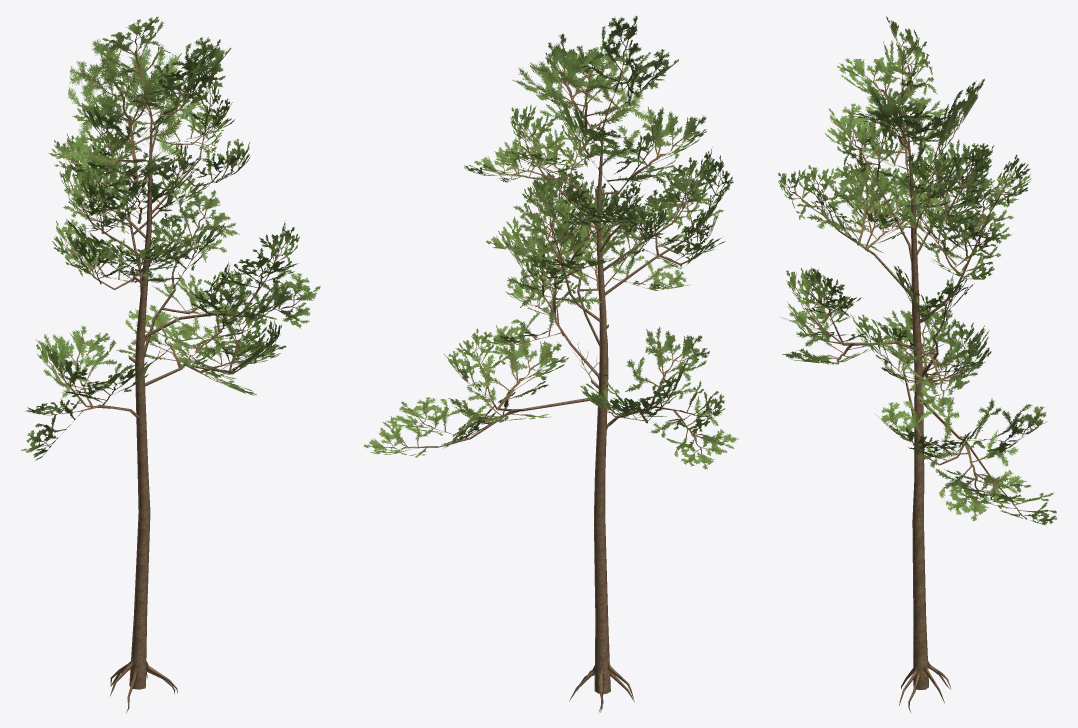
The picture shows the model from 3 angles, left to right: view 1: azimuth 30°, elevation 25°; view 2: azimuth 150°, elevation 25°; view 3: azimuth 270°, elevation 25°; orthographic projection. The views are drawn at different scales.
Visible parts, largest first — view 1: Pine_medium_1_LOD2_Bark_Mat_0; view 2: Pine_medium_1_LOD2_Bark_Mat_0; view 3: Pine_medium_1_LOD2_Bark_Mat_0.
Part boxes in pixels (x1,y1,x2,y2): Pine_medium_1_LOD2_Bark_Mat_0: [21, 16, 320, 712]; Pine_medium_1_LOD2_Bark_Mat_0: [363, 16, 738, 712]; Pine_medium_1_LOD2_Bark_Mat_0: [778, 16, 1057, 712].
Size of the model in its own units: 6.38 by 13.92 by 5.44.
